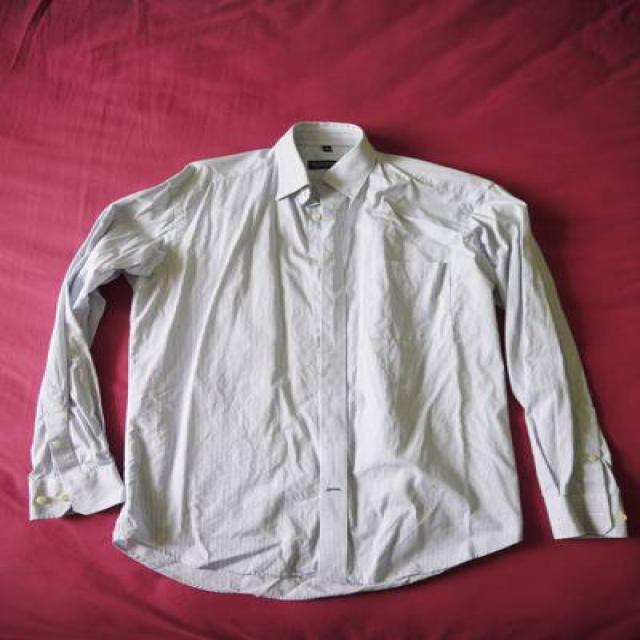Clothes -Biodegradable-: (26, 122, 640, 597)
